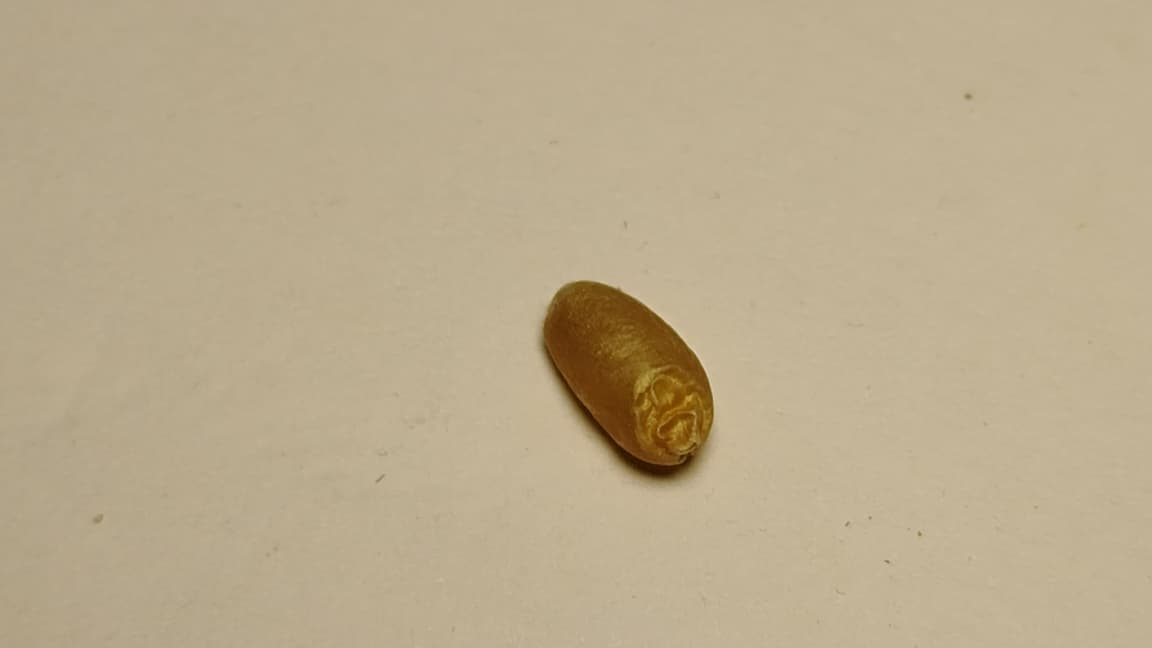healthy: (541, 279, 714, 474)
